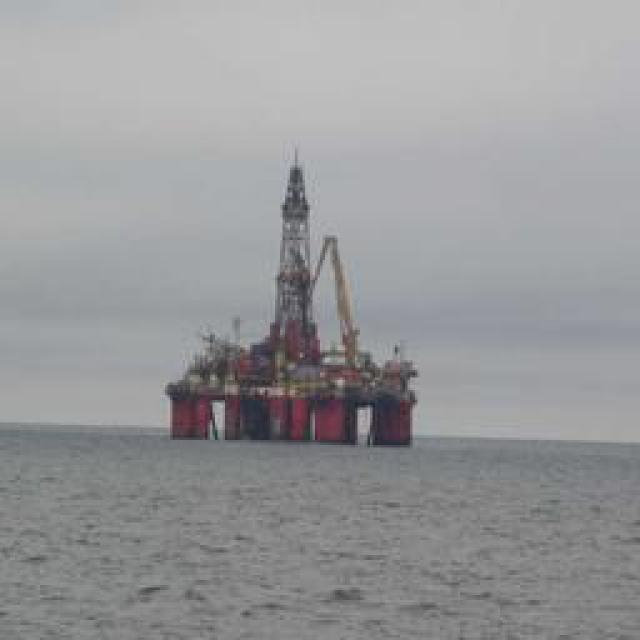Ship: (163, 147, 421, 455)
